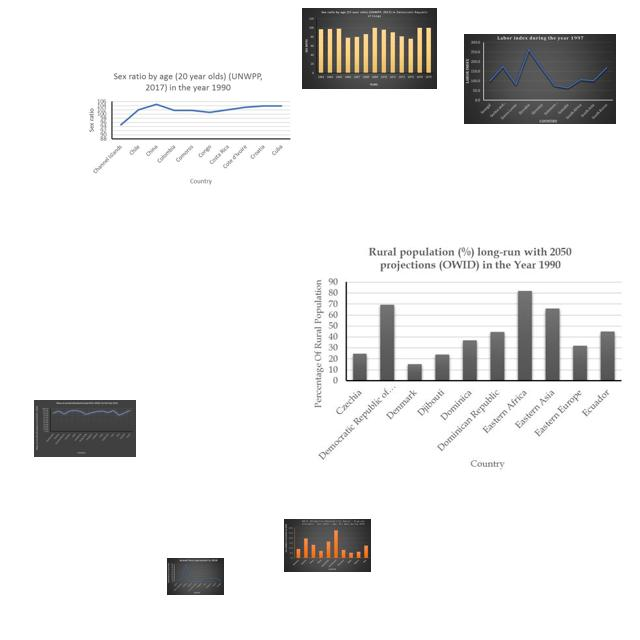Graph: (307, 242, 626, 478), (82, 69, 294, 186), (464, 34, 616, 124), (302, 8, 437, 89), (34, 400, 136, 457), (284, 519, 371, 572), (167, 558, 224, 595)
